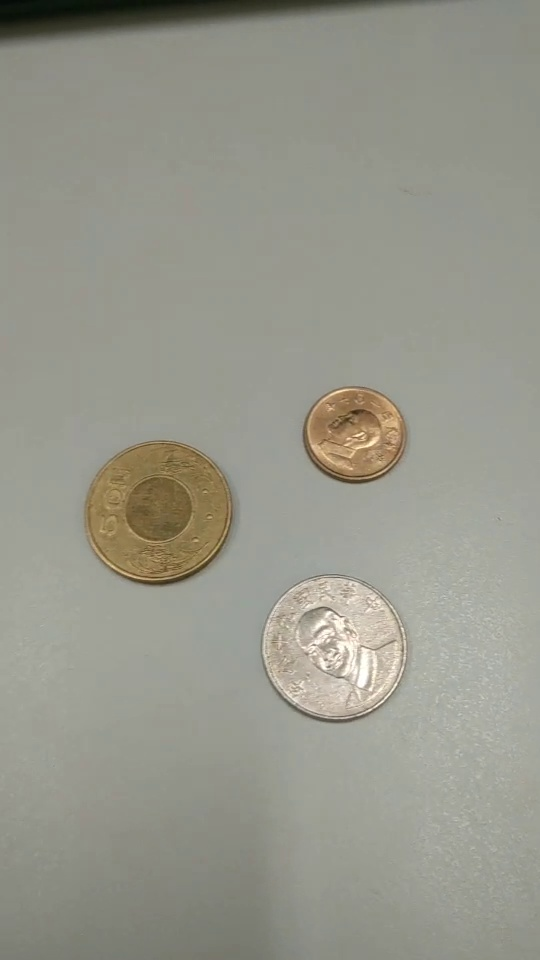NT$ 1: (302, 385, 407, 486)
NT$ 10: (263, 573, 410, 723)
NT$ 50: (85, 437, 235, 587)
